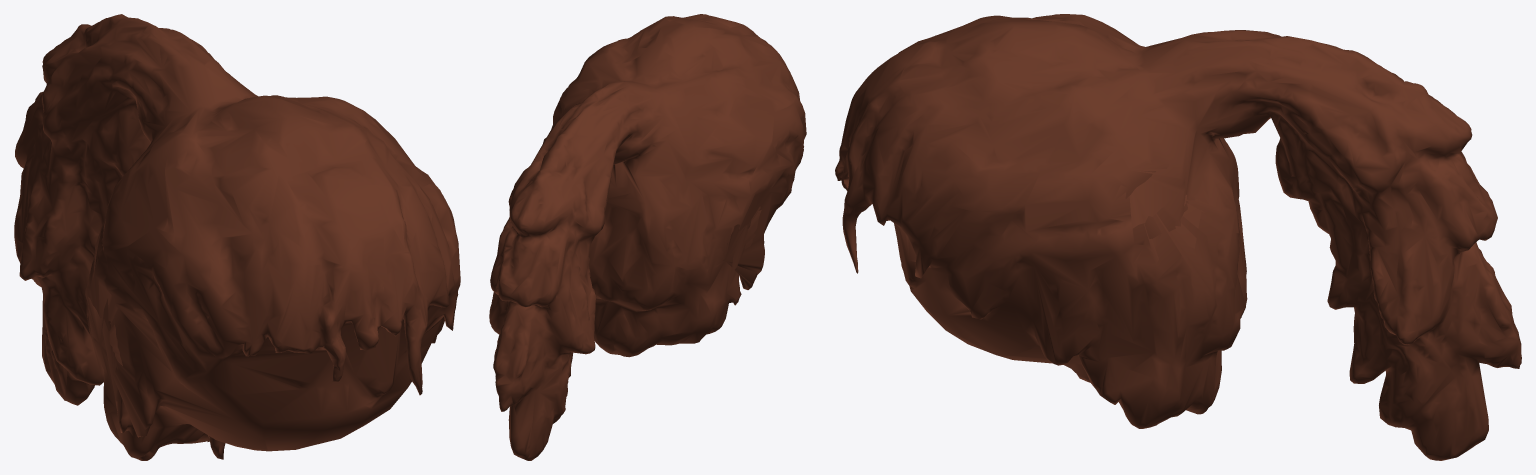
File: hair01.fbx
3 renders of one model, left to right at view 1: azimuth 30°, elevation 25°; view 2: azimuth 150°, elevation 25°; view 3: azimuth 270°, elevation 25°, orthographic. The views are drawn at different scales.
Visible parts, largest first — view 1: Sphere; view 2: Sphere; view 3: Sphere.
Boxes of the visible parts, <box> form: Sphere: <box>14,14,460,460</box>; Sphere: <box>489,14,806,460</box>; Sphere: <box>835,14,1521,460</box>.
Size of the model in its own units: 61.38 by 88.62 by 126.
